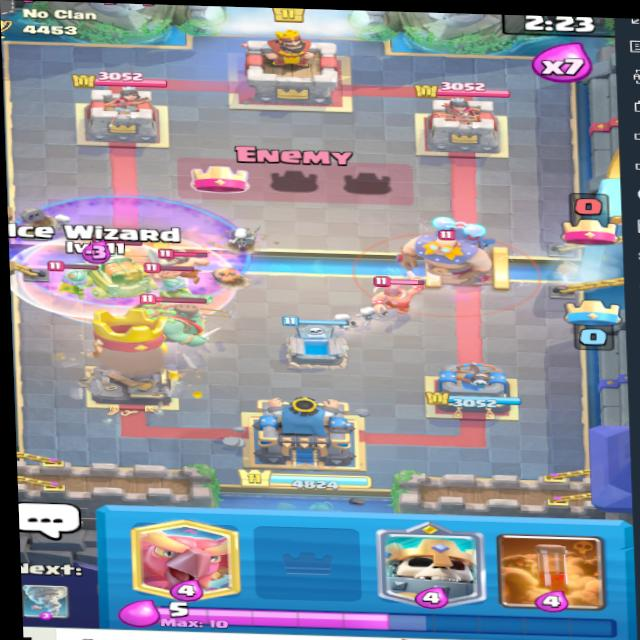Ebarbs: (369, 269, 439, 318), (157, 244, 216, 278)
Egiant: (388, 219, 507, 288)
Goblingiant: (133, 288, 223, 354)
Musketeer: (140, 261, 215, 306), (51, 259, 104, 303)
Sparky: (83, 244, 159, 298)
